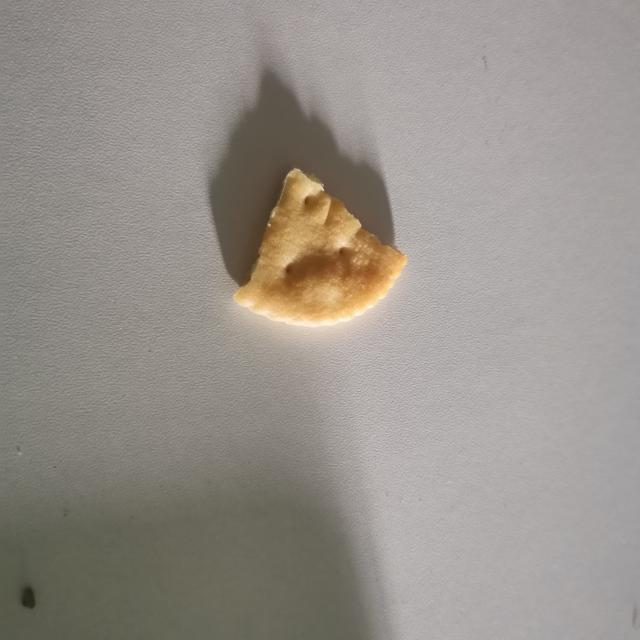Broken: (232, 166, 408, 327)
